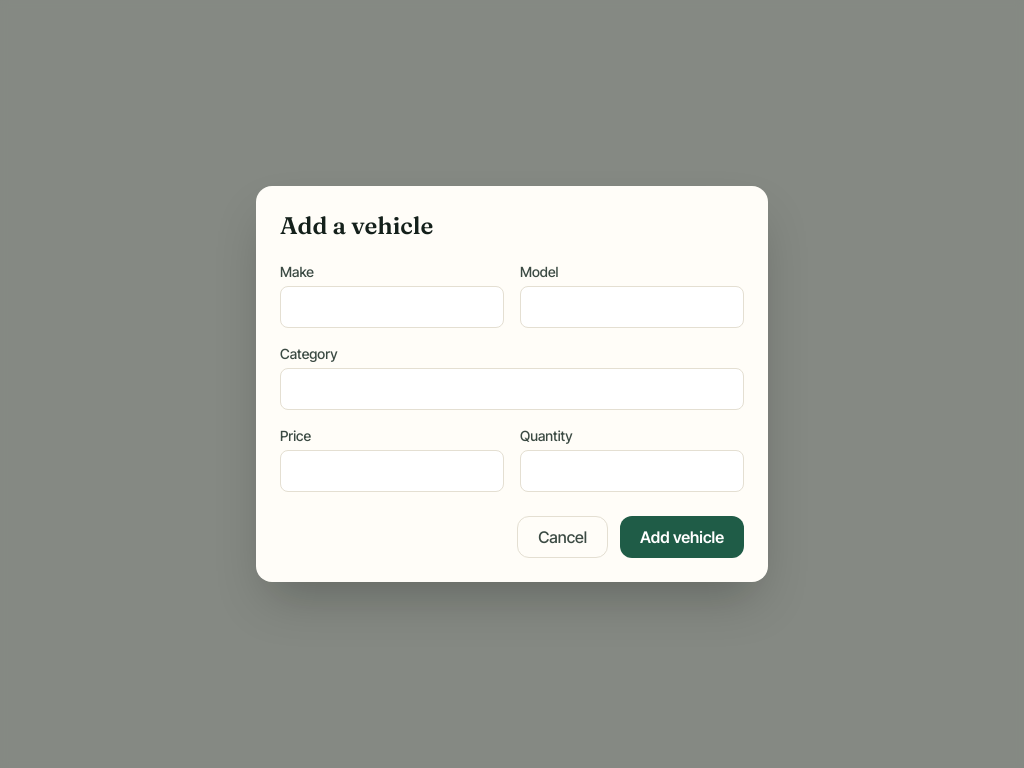
VehicleFormModal › shows validation errors and does not submit invalid data
The width and height of the screenshot is (1024, 768).
Click the button "Add vehicle" at [682, 537], box [620, 516, 744, 558]
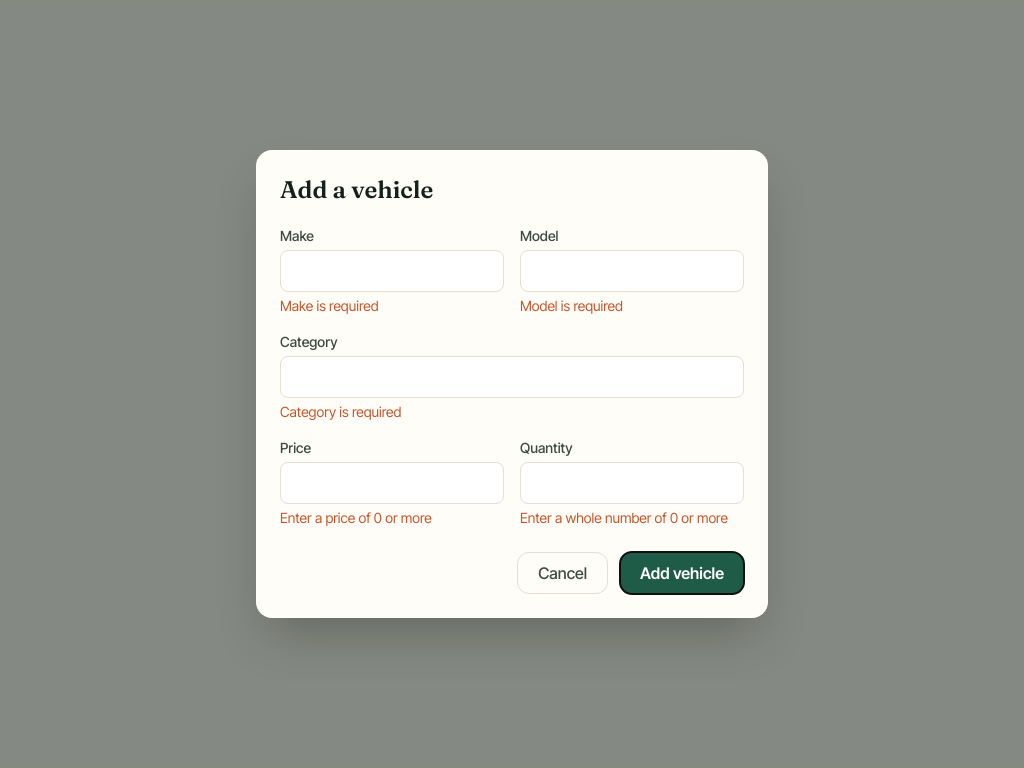
expect the message "Make is required" is shown: met, box [280, 297, 378, 314]
